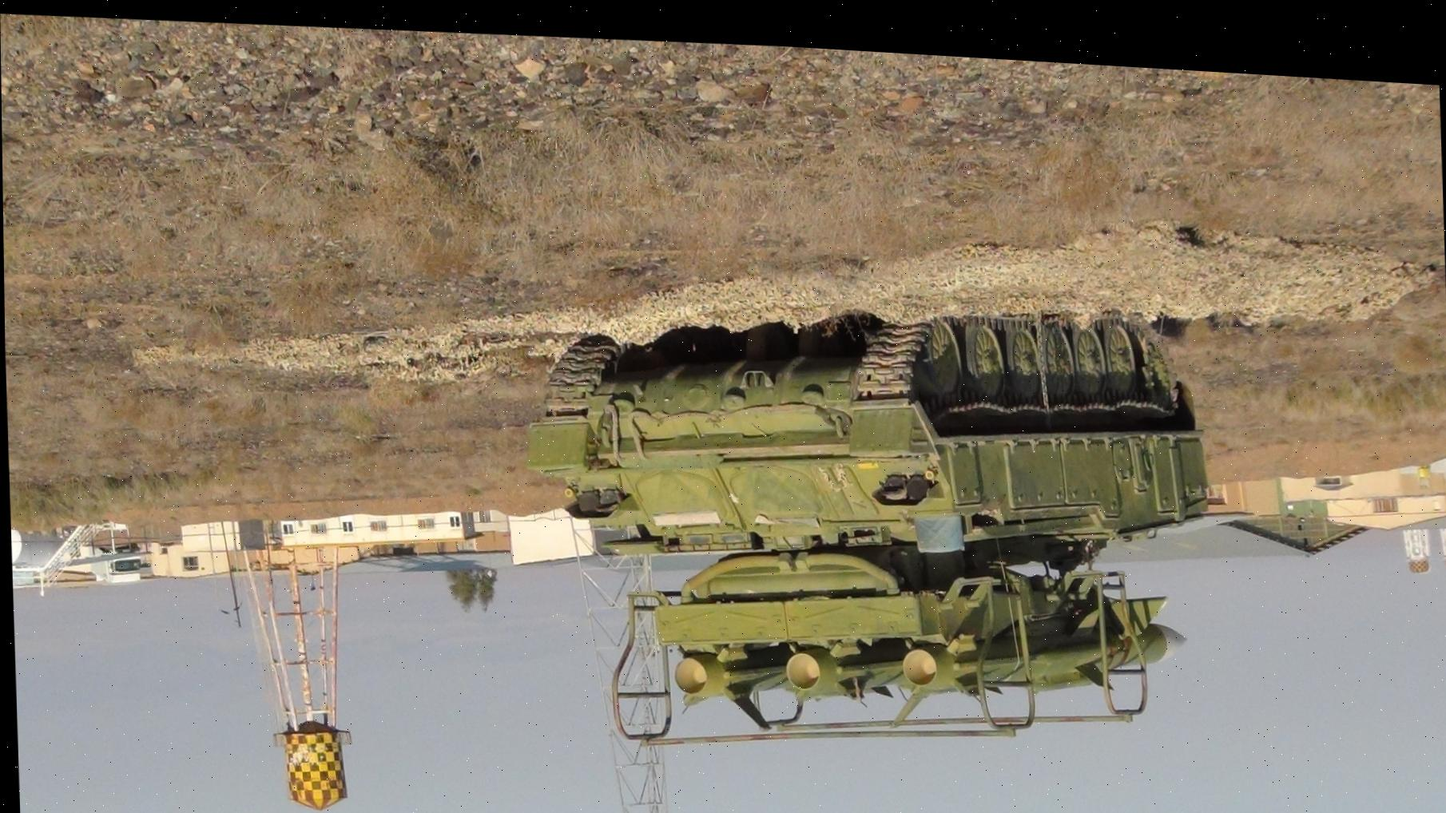armored_car: (513, 283, 1232, 781)
